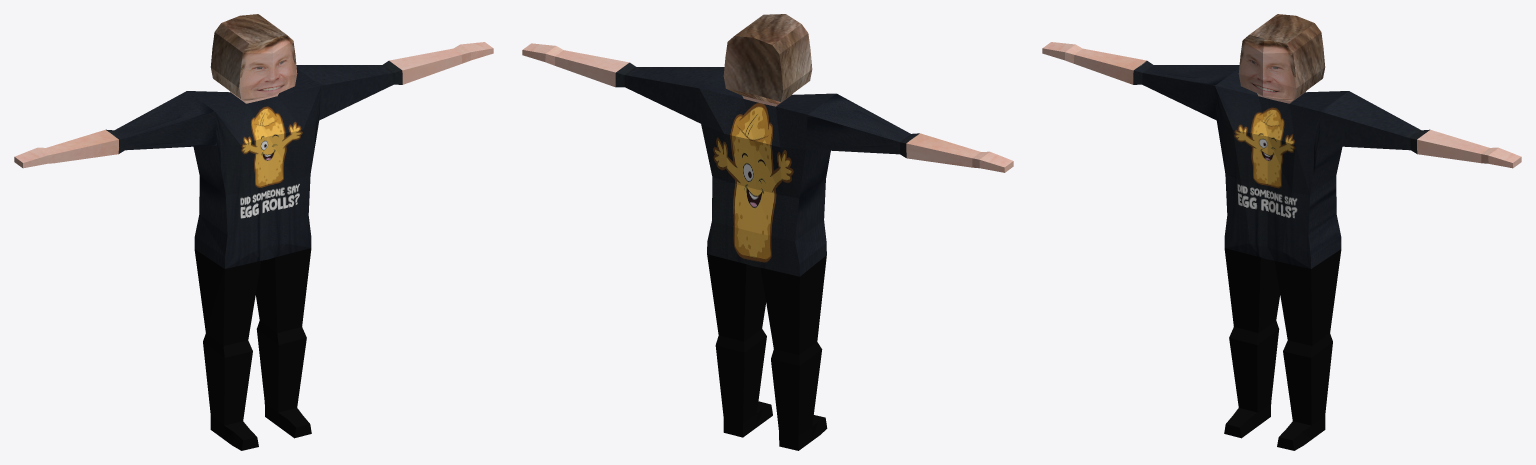
Rendered from tyler.fbx.
3 renders of one model, left to right at view 1: azimuth 30°, elevation 25°; view 2: azimuth 150°, elevation 25°; view 3: azimuth 330°, elevation 25°, orthographic. The views are drawn at different scales.
Parts seen in each view (by area): view 1: tyler; view 2: tyler; view 3: tyler.
Part boxes in pixels (x1,y1,x2,y2): tyler: (14,14,493,450); tyler: (522,14,1013,450); tyler: (1042,14,1521,450).
Size of the model in its own units: 1916 by 1555 by 268.
1 material, 1 textured.
